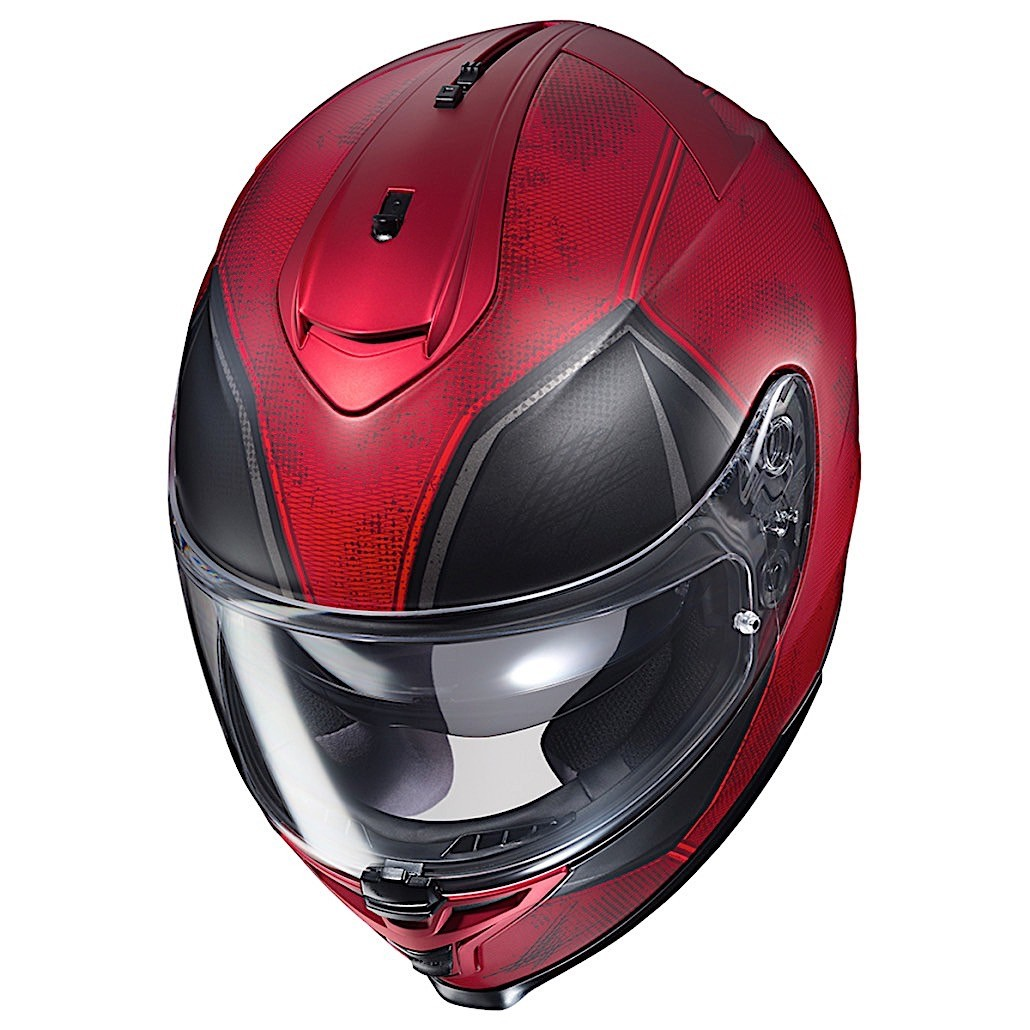with_helmet: (155, 14, 869, 1011)
